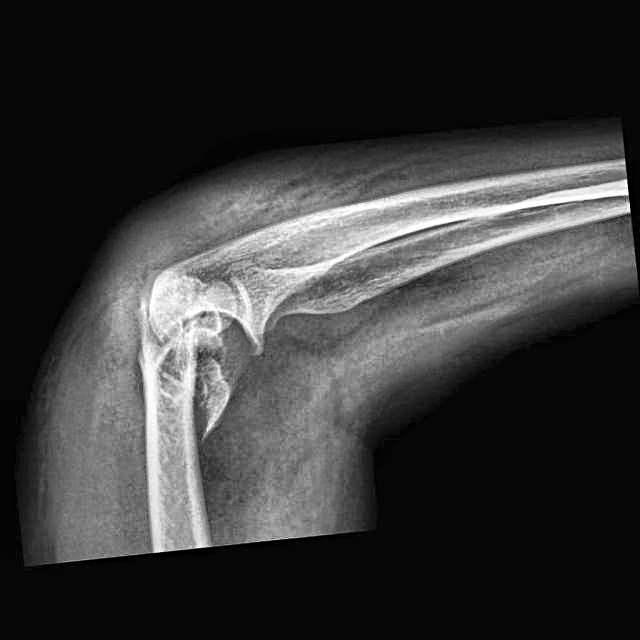Oblique Displaced: (155, 265, 261, 448)
